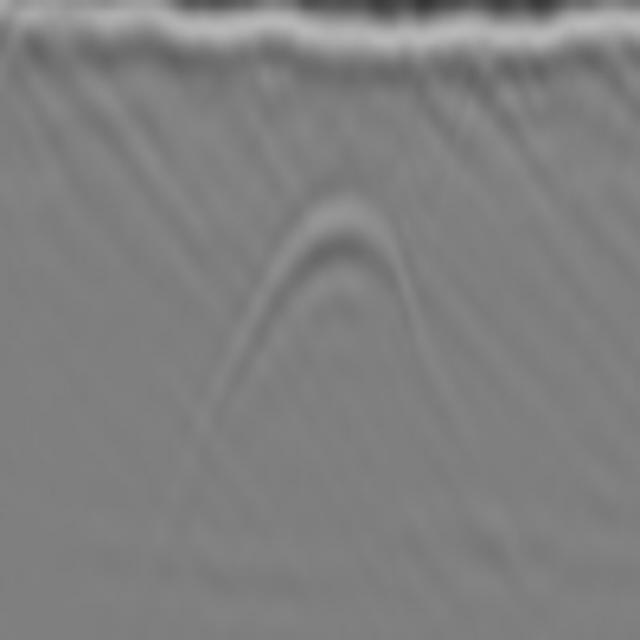hyperbola: (207, 185, 428, 407)
